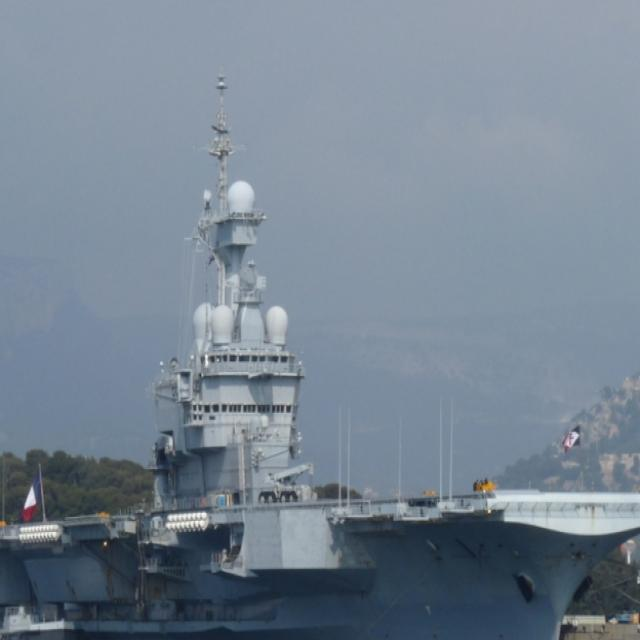Portanaves: (1, 58, 640, 640)
